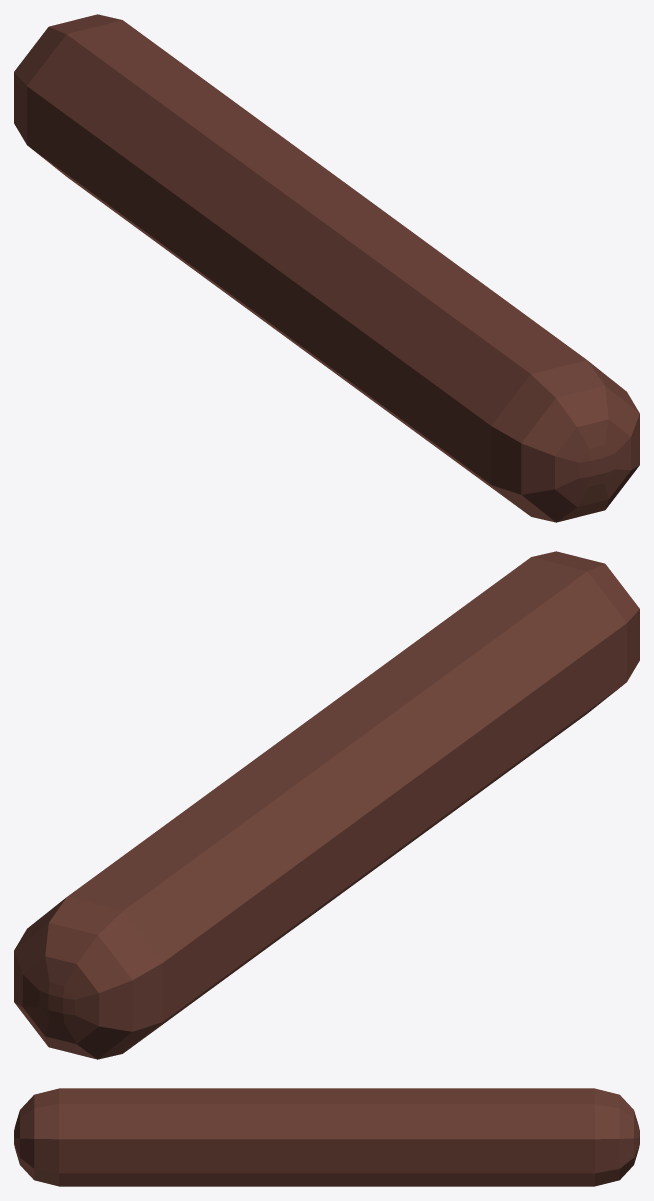
The model's file is Sausage_Raw.obj.
3 renders of one model, top to bottom at view 1: azimuth 30°, elevation 25°; view 2: azimuth 150°, elevation 25°; view 3: azimuth 270°, elevation 25°, orthographic. The views are drawn at different scales.
Parts seen in each view (by area): view 1: Sausage_Raw_Cylinder.007; view 2: Sausage_Raw_Cylinder.007; view 3: Sausage_Raw_Cylinder.007.
Boxes of the visible parts, left/top/right/bottom form: Sausage_Raw_Cylinder.007: left=14, top=14, right=639, bottom=522; Sausage_Raw_Cylinder.007: left=14, top=551, right=639, bottom=1059; Sausage_Raw_Cylinder.007: left=14, top=1088, right=639, bottom=1186.
Bounding box in the file's own units: 0.2396 × 0.2413 × 1.66.
